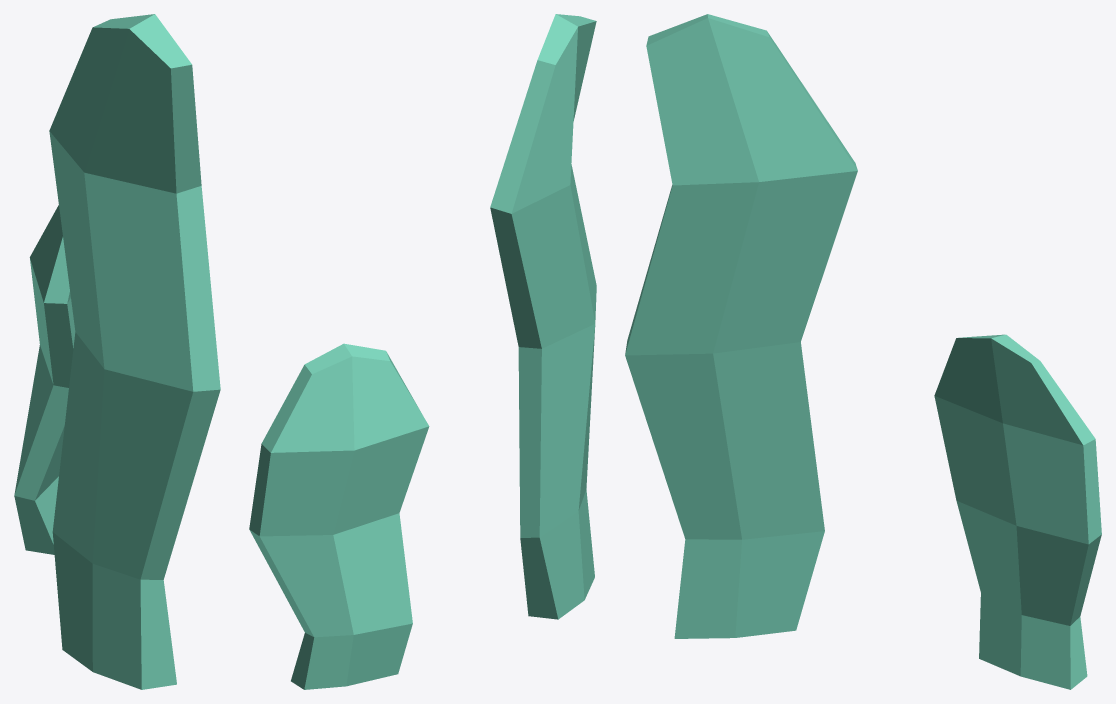
Rendered from st1_tree8.fbx.
3 views of the same model, side by side, from view 1: azimuth 30°, elevation 25°; view 2: azimuth 150°, elevation 25°; view 3: azimuth 270°, elevation 25° (orthographic). The views are drawn at different scales.
Visible parts, largest first — view 1: BezierCurve_004; view 2: BezierCurve_004; view 3: BezierCurve_004.
Boxes of the visible parts, left/top/right/bottom form: BezierCurve_004: left=14, top=14, right=220, bottom=689; BezierCurve_004: left=249, top=14, right=596, bottom=689; BezierCurve_004: left=625, top=14, right=1101, bottom=689.
Size of the model in its own units: 24.95 by 78.33 by 54.61.
